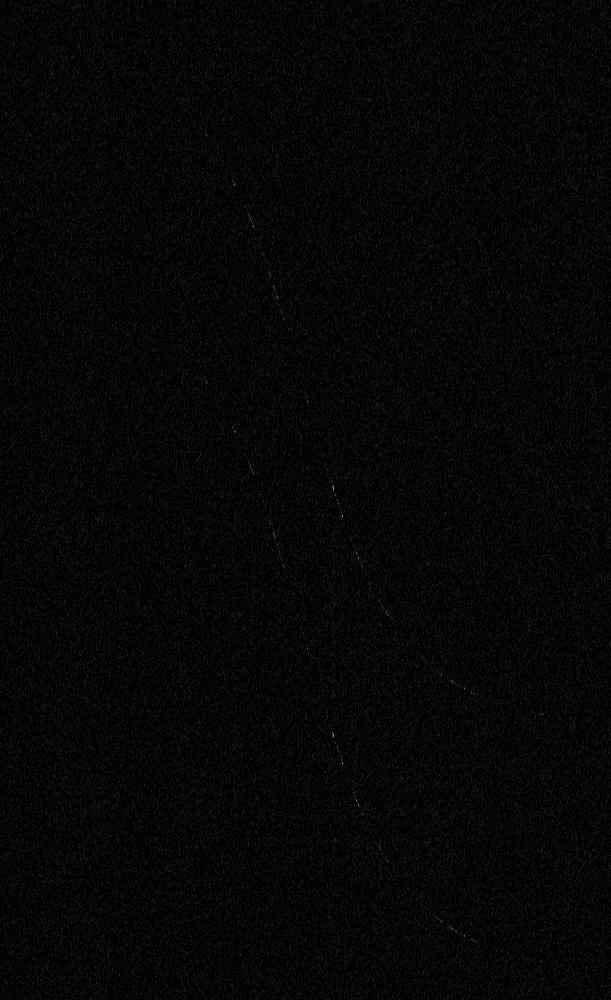signal: (0, 0, 610, 999)
